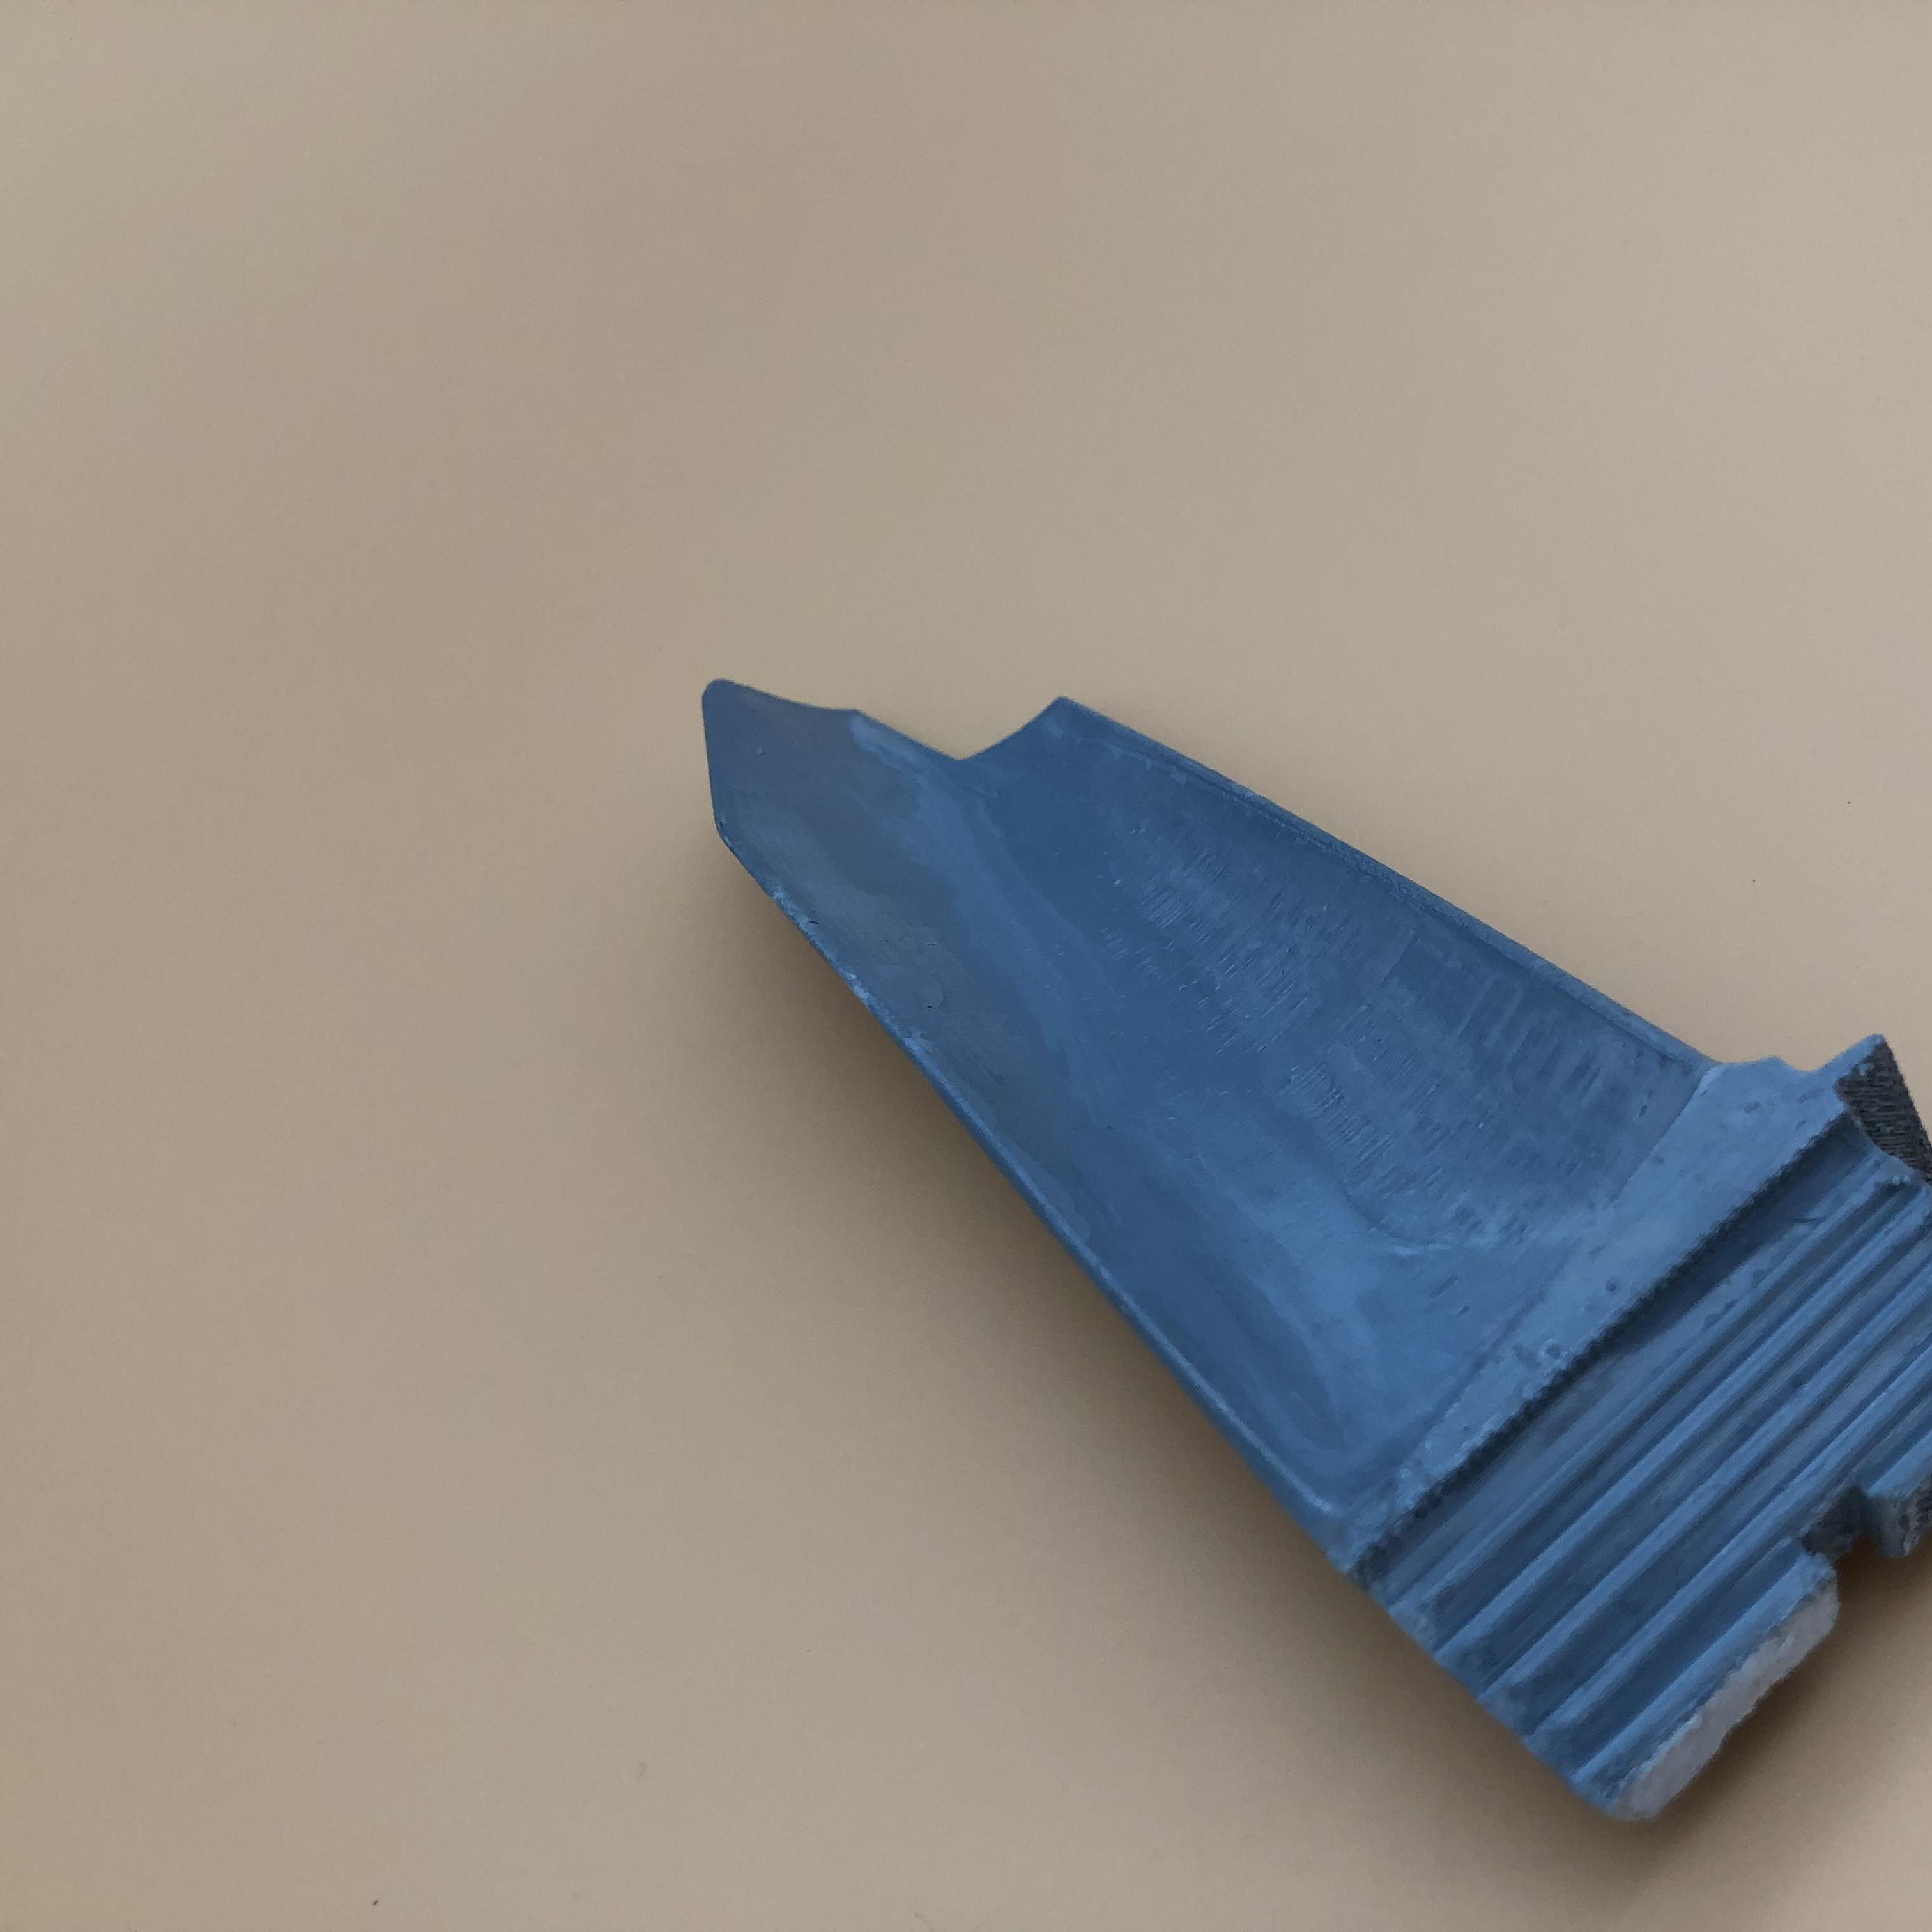fracture: (743, 653, 1072, 773)
